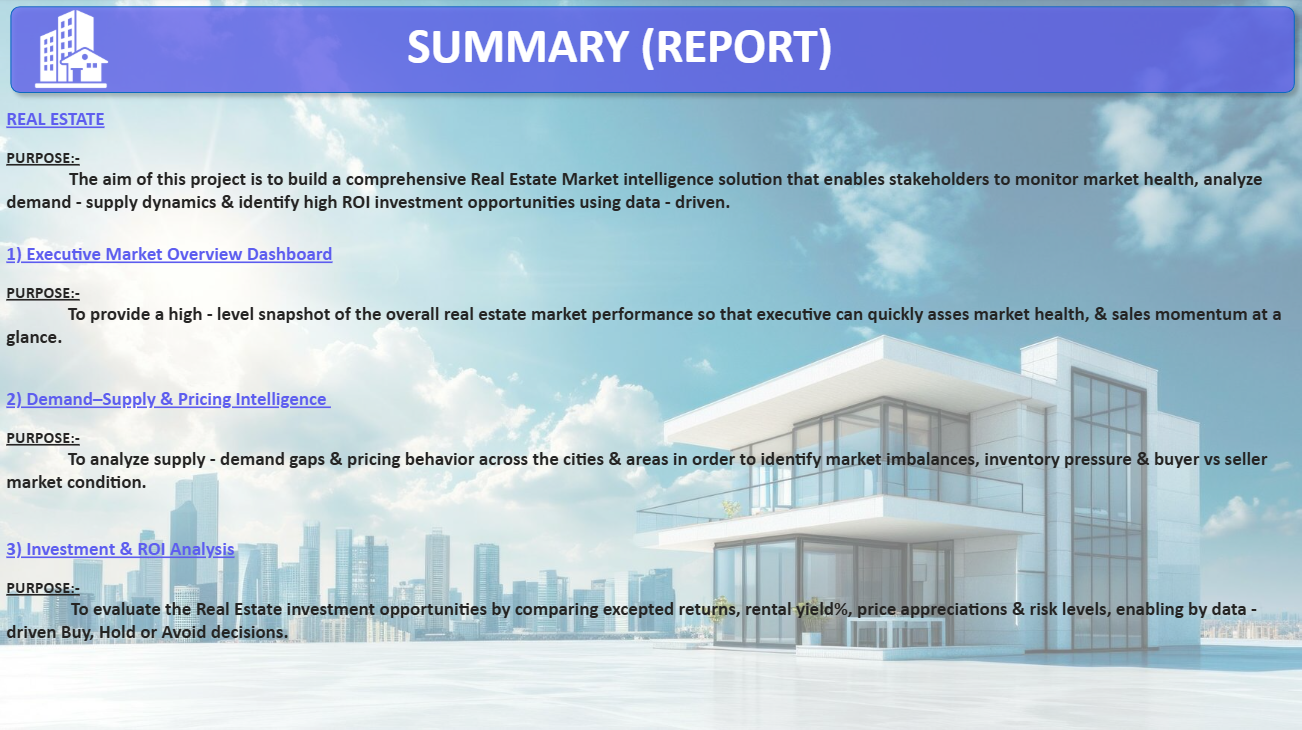

This screenshot's page, from the dashboard's own definition file:
{"tool":"powerbi","page":{"name":"SUMMARY (REPOR)T","canvas":[1280,720],"ordinal":0},"visuals":[{"type":"group","id":"g1","title":"Group 3","box":[1.8,0,1278.8,103.2],"z":0},{"type":"shape","box":[1.8,0,1278.8,103.2],"z":0,"group":"g1"},{"type":"image","box":[13.5,6.1,114.1,89.6],"z":1000},{"type":"textbox","box":[191.9,13.7,834.3,75.5],"z":1000,"group":"g1"},{"type":"textbox","box":[1.2,103.2,1278.8,131.9],"z":2000},{"type":"textbox","box":[1.2,235.1,1272.6,124.4],"z":3000},{"type":"textbox","box":[1.2,378.2,1272.6,125.6],"z":4000},{"type":"textbox","box":[1.2,525,1276.3,159.2],"z":5000}]}

Visuals, with their boxes in screenshot pixels (x1, y1, x2, y2), scaled from the page's 1280x720 canvas onto the 1302x730 screenshot:
"Group 3" group: {"left": 2, "top": 0, "right": 1301, "bottom": 105}
shape: {"left": 2, "top": 0, "right": 1301, "bottom": 105}
image: {"left": 14, "top": 6, "right": 130, "bottom": 97}
textbox: {"left": 195, "top": 14, "right": 1044, "bottom": 90}
textbox: {"left": 1, "top": 105, "right": 1301, "bottom": 238}
textbox: {"left": 1, "top": 238, "right": 1296, "bottom": 364}
textbox: {"left": 1, "top": 383, "right": 1296, "bottom": 511}
textbox: {"left": 1, "top": 532, "right": 1299, "bottom": 694}
